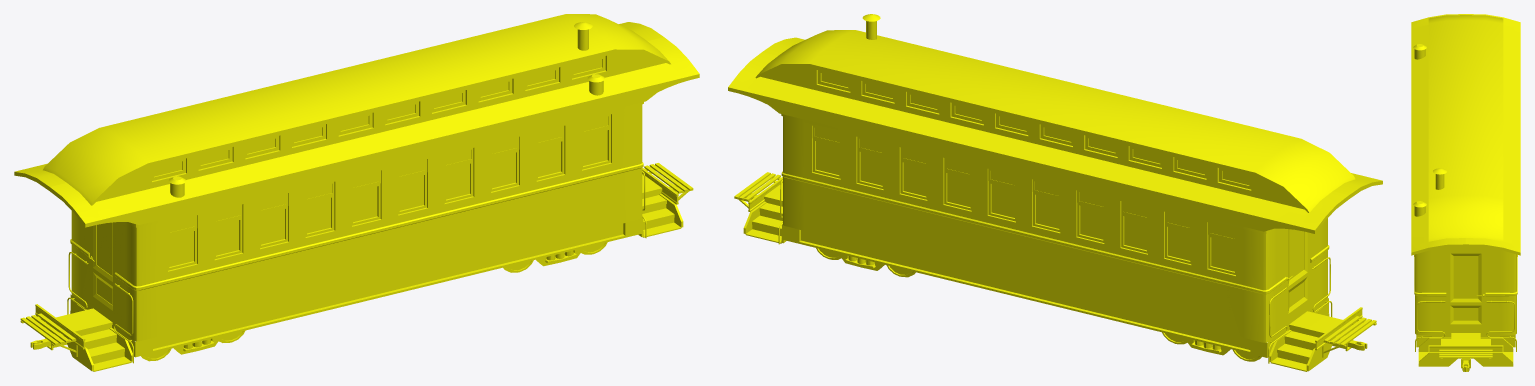
Rendered from PassengerCar.glb.
3 renders of one model, left to right at view 1: azimuth 30°, elevation 25°; view 2: azimuth 150°, elevation 25°; view 3: azimuth 270°, elevation 25°, orthographic. The views are drawn at different scales.
Visible parts, largest first — view 1: Passenger_Car; view 2: Passenger_Car; view 3: Passenger_Car.
Part boxes in pixels (box(x1,y1,x2,y2)): Passenger_Car: box(14, 14, 699, 371); Passenger_Car: box(728, 14, 1382, 371); Passenger_Car: box(1411, 14, 1520, 371).
Bounding box in the file's own units: 15.93 × 5.48 × 3.02.
1 material, 1 textured.
